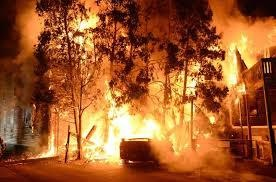fire: (30, 4, 184, 162)
